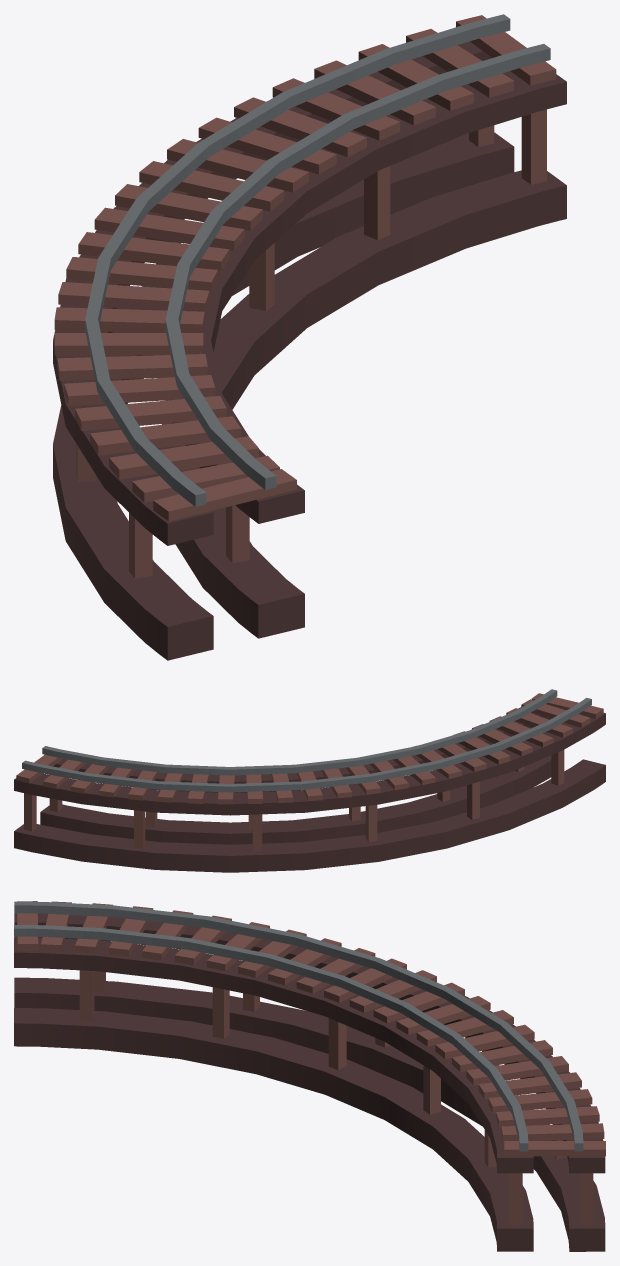
The model's file is DarkRoseWoodMechMedium0_85GaugeRightTurn1.fbx.
3 renders of one model, top to bottom at view 1: azimuth 30°, elevation 25°; view 2: azimuth 150°, elevation 25°; view 3: azimuth 270°, elevation 25°, orthographic. The views are drawn at different scales.
Parts seen in each view (by area): view 1: DarkRoseWoodMechMedium0_85GaugeRightTurn1; view 2: DarkRoseWoodMechMedium0_85GaugeRightTurn1; view 3: DarkRoseWoodMechMedium0_85GaugeRightTurn1.
Part boxes in pixels (x1,y1,x2,y2): DarkRoseWoodMechMedium0_85GaugeRightTurn1: (53,14,566,660); DarkRoseWoodMechMedium0_85GaugeRightTurn1: (14,689,605,872); DarkRoseWoodMechMedium0_85GaugeRightTurn1: (14,901,605,1251).
Size of the model in its own units: 1098 by 221 by 1094.
